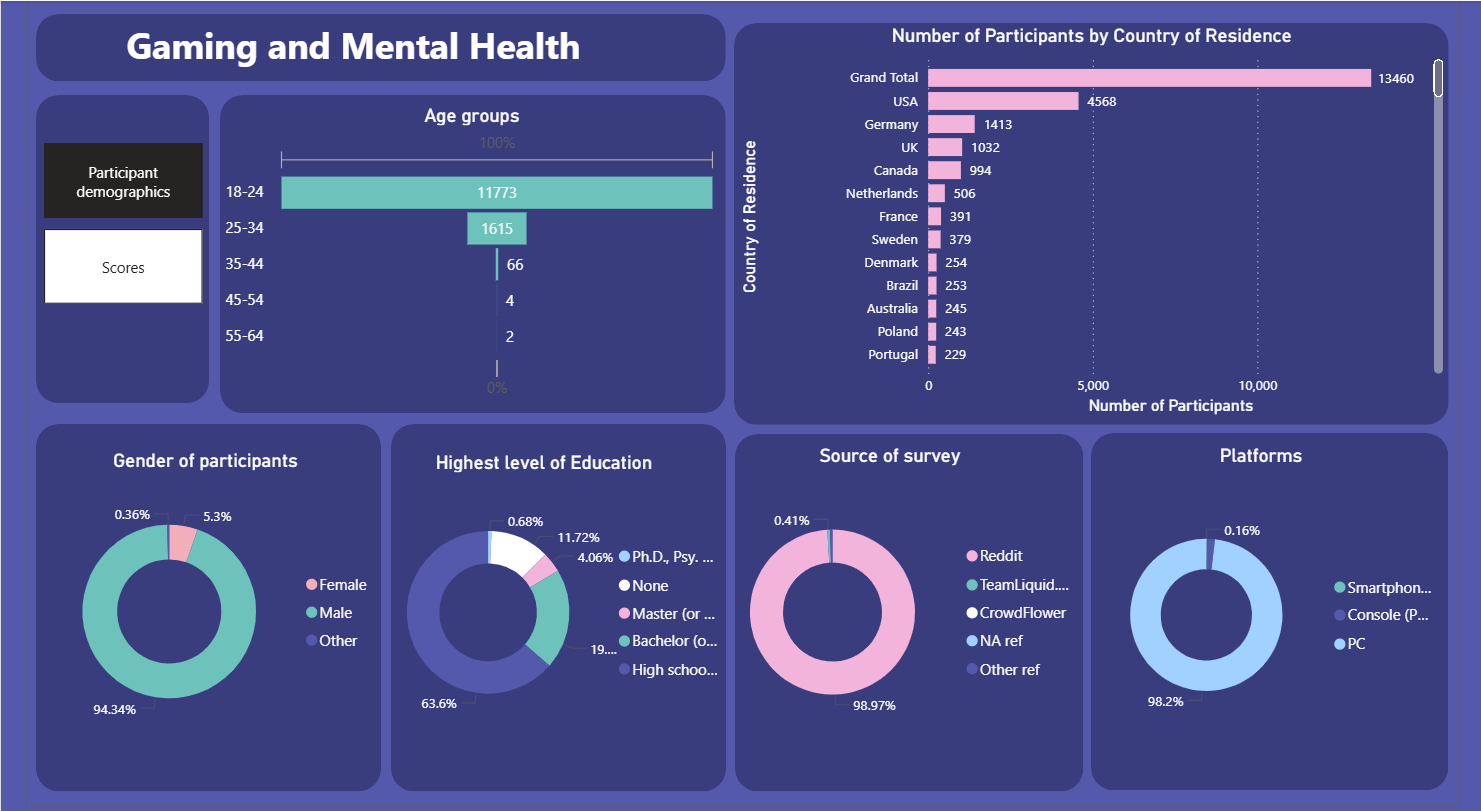

The dashboard page shown, as its layout file describes it:
{"tool":"powerbi","page":{"name":"Participant demographics","canvas":[1280,720],"ordinal":0},"visuals":[{"type":"shape","box":[7,84,155,276],"z":0},{"type":"shape","box":[6.8,11.7,617.6,60.3],"z":1000},{"type":"shape","box":[632.2,19.5,640,359.9],"z":2000},{"type":"shape","box":[172,84,453,285],"z":3000},{"type":"shape","box":[952.2,387.1,320,320],"z":4000},{"type":"shape","box":[633,388,312,320],"z":5000},{"type":"shape","box":[325,379,300,329],"z":6000},{"type":"shape","box":[7,379,309,329],"z":7000},{"type":"textbox","box":[83,12,434,60],"z":8000},{"type":"donutChart","title":"Gender of participants","fields":{"Y":["260115_gaming_demodetails_v1.% Female","260115_gaming_demodetails_v1.% Male","260115_gaming_demodetails_v1.% Other"]},"box":[0,401,318,272],"z":9000},{"type":"donutChart","title":"Platforms","fields":{"Y":["260115_gaming_demodetails_v1.% mobile","260115_gaming_demodetails_v1.% Console","260115_gaming_demodetails_v1.% PC"]},"box":[937,397,335,287],"z":10000},{"type":"donutChart","title":"Highest level of Education","fields":{"Y":["260115_gaming_demodetails_v1.Count of phd","260115_gaming_demodetails_v1.Count of none","260115_gaming_demodetails_v1.Count of masters","260115_gaming_demodetails_v1.Count of degree","260115_gaming_demodetails_v1.Count of highschool"]},"box":[291,403,342,270],"z":11000},{"type":"donutChart","title":"Source of survey","fields":{"Y":["260115_gaming_demodetails_v1.% reddit","260115_gaming_demodetails_v1.% TeamLiquid","260115_gaming_demodetails_v1.% CrowdFlower","260115_gaming_demodetails_v1.% NA ref","260115_gaming_demodetails_v1.% Other ref"]},"box":[596,397,351,282],"z":12000},{"type":"funnel","title":"Age groups","fields":{"Category":["260115_gaming_demodetails_v1.Age Groups"],"Y":["260115_gaming_demodetails_v1.Count of Participants"]},"box":[172,92,451,268],"z":13000},{"type":"barChart","fields":{"Category":["Sheet1.Row Labels"],"Y":["Sum(Sheet1.Count of Residence)"]},"box":[633,21,639,355],"z":14000},{"type":"pageNavigator","box":[14,127,142,144],"z":15000}]}

Visuals, with their boxes in screenshot pixels (x1, y1, x2, y2), scaled from the page's 1280x720 canvas onto the 1481x811 screenshot:
shape: {"left": 8, "top": 95, "right": 187, "bottom": 406}
shape: {"left": 8, "top": 13, "right": 722, "bottom": 81}
shape: {"left": 731, "top": 22, "right": 1472, "bottom": 427}
shape: {"left": 199, "top": 95, "right": 723, "bottom": 416}
shape: {"left": 1102, "top": 436, "right": 1472, "bottom": 796}
shape: {"left": 732, "top": 437, "right": 1093, "bottom": 797}
shape: {"left": 376, "top": 427, "right": 723, "bottom": 797}
shape: {"left": 8, "top": 427, "right": 366, "bottom": 797}
textbox: {"left": 96, "top": 14, "right": 598, "bottom": 81}
"Gender of participants" donutChart: {"left": 0, "top": 452, "right": 368, "bottom": 758}
"Platforms" donutChart: {"left": 1084, "top": 447, "right": 1472, "bottom": 770}
"Highest level of Education" donutChart: {"left": 337, "top": 454, "right": 732, "bottom": 758}
"Source of survey" donutChart: {"left": 690, "top": 447, "right": 1096, "bottom": 765}
"Age groups" funnel: {"left": 199, "top": 104, "right": 721, "bottom": 406}
barChart - Sheet1.Row Labels x Sum(Sheet1.Count of Residence): {"left": 732, "top": 24, "right": 1472, "bottom": 424}
pageNavigator: {"left": 16, "top": 143, "right": 180, "bottom": 305}
